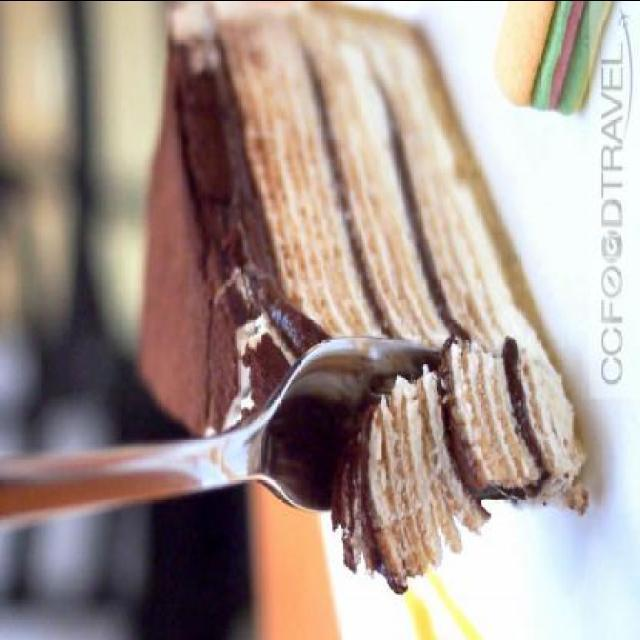Cake: (130, 1, 588, 592)
